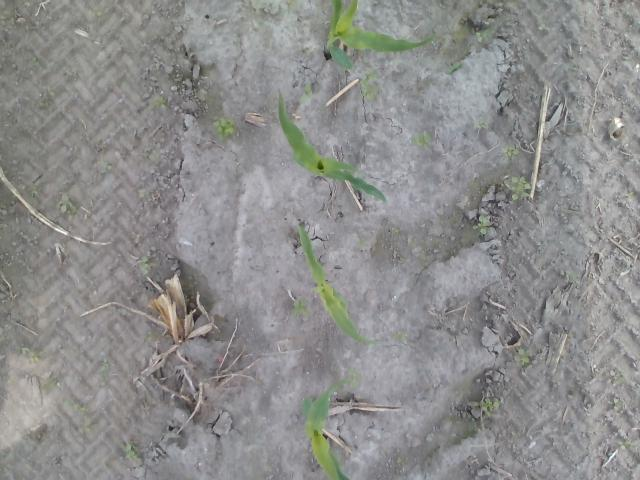Maize: (276, 88, 388, 204), (297, 218, 387, 348), (323, 0, 436, 67), (298, 373, 352, 480)
Weeds: (252, 0, 280, 32), (360, 68, 380, 104), (509, 172, 534, 200), (472, 214, 494, 240), (410, 128, 433, 151), (212, 117, 236, 138), (120, 442, 144, 461), (446, 22, 466, 44), (16, 344, 38, 362), (62, 398, 88, 412), (479, 396, 501, 412), (58, 192, 73, 214), (348, 367, 362, 390), (98, 359, 110, 385), (137, 253, 151, 275), (392, 330, 410, 346), (499, 144, 518, 159), (298, 84, 312, 104), (152, 94, 168, 111), (516, 346, 530, 364), (606, 368, 618, 388), (292, 296, 306, 313), (472, 30, 488, 44), (46, 376, 62, 390), (32, 182, 40, 208), (351, 238, 368, 250), (96, 159, 112, 171), (612, 396, 622, 413), (474, 119, 488, 130), (31, 56, 42, 70), (90, 7, 104, 18), (617, 440, 632, 450), (448, 62, 461, 73), (45, 84, 55, 98), (566, 270, 576, 284), (143, 331, 153, 342), (284, 0, 296, 8), (389, 228, 402, 234), (627, 190, 635, 198)
